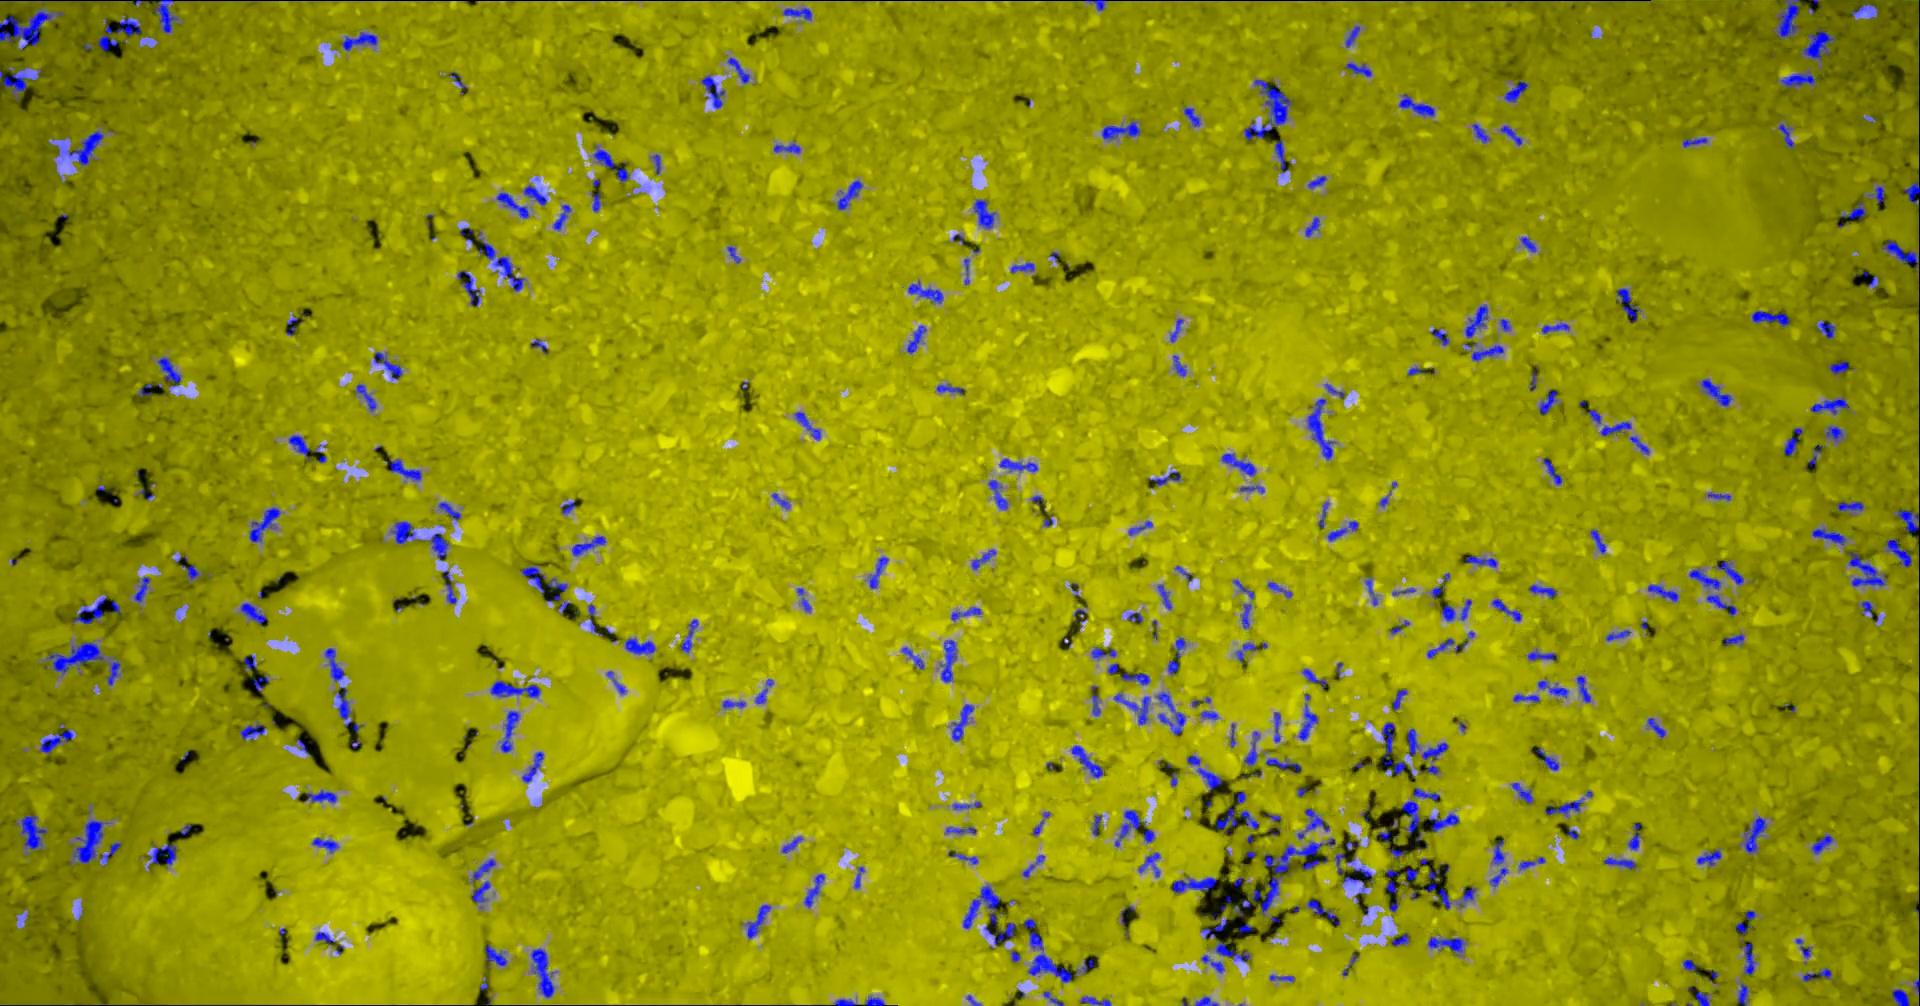ant: (1023, 918, 1070, 982), (1243, 79, 1291, 138), (477, 231, 524, 291), (0, 8, 63, 50), (46, 641, 104, 676), (1305, 398, 1335, 459), (124, 0, 178, 32), (963, 884, 1001, 929), (57, 130, 103, 165), (72, 819, 107, 862), (97, 17, 141, 50), (592, 144, 629, 180), (0, 66, 41, 99), (1848, 551, 1886, 586), (1156, 691, 1185, 735), (530, 948, 555, 998), (1382, 721, 1406, 775), (1187, 754, 1222, 791), (1112, 692, 1149, 724), (1114, 809, 1145, 846), (1423, 869, 1451, 909), (1801, 28, 1835, 61), (248, 507, 279, 542), (1881, 239, 1919, 268), (15, 814, 47, 848), (1342, 868, 1371, 903), (337, 687, 359, 732), (1070, 746, 1102, 777), (39, 723, 72, 753), (1297, 808, 1330, 838), (1775, 0, 1799, 38), (950, 702, 974, 741), (1298, 694, 1317, 741), (907, 279, 943, 304), (1700, 379, 1732, 406), (495, 192, 528, 218), (490, 680, 540, 697), (1305, 898, 1338, 925), (1743, 815, 1766, 854), (72, 597, 105, 622), (745, 904, 771, 937), (1490, 840, 1507, 887), (1617, 287, 1641, 321), (373, 351, 403, 379), (1398, 93, 1434, 116), (500, 710, 519, 752), (700, 75, 724, 108), (385, 459, 422, 480), (457, 271, 480, 305), (836, 180, 862, 210), (938, 639, 956, 682), (1464, 304, 1487, 337), (1171, 876, 1217, 893), (1544, 796, 1583, 815), (794, 412, 820, 439), (1884, 539, 1911, 567), (803, 873, 824, 907), (1688, 567, 1719, 589), (1167, 636, 1186, 674), (521, 751, 543, 782), (1222, 453, 1255, 475), (571, 535, 604, 556), (157, 356, 180, 386), (1491, 598, 1521, 621), (1215, 941, 1250, 962), (342, 30, 377, 50), (1101, 121, 1139, 138), (971, 199, 996, 227), (1716, 560, 1743, 584), (1327, 520, 1357, 541), (1440, 600, 1470, 621), (984, 922, 1015, 944), (1427, 936, 1464, 954), (324, 647, 343, 681), (1530, 747, 1558, 770), (149, 842, 177, 865), (1751, 310, 1789, 326), (1810, 398, 1848, 414), (987, 479, 1007, 509), (1705, 594, 1736, 615), (521, 567, 543, 593), (869, 556, 888, 588), (1811, 527, 1846, 544), (681, 619, 698, 652), (1401, 800, 1418, 833), (175, 555, 199, 579), (1137, 852, 1161, 876), (471, 857, 495, 882), (905, 325, 926, 353), (356, 384, 376, 412), (1537, 680, 1568, 697), (1427, 813, 1459, 831), (1903, 169, 1919, 206), (1783, 427, 1802, 456), (1896, 509, 1919, 533), (483, 942, 505, 967), (728, 57, 749, 83), (240, 602, 265, 624), (1426, 638, 1454, 657), (471, 880, 490, 908), (1274, 140, 1290, 171), (623, 638, 655, 654), (1780, 71, 1815, 86), (1243, 730, 1258, 765), (1214, 807, 1237, 829), (1503, 80, 1528, 102), (390, 521, 414, 542), (1741, 939, 1755, 976), (1430, 572, 1449, 598), (1200, 918, 1227, 937), (441, 570, 456, 603), (1647, 584, 1677, 601), (998, 459, 1037, 471), (1265, 758, 1300, 772), (902, 647, 924, 668), (288, 434, 309, 459), (971, 549, 996, 569), (1302, 668, 1326, 688), (1735, 909, 1755, 934), (545, 594, 570, 614), (430, 533, 448, 560), (1498, 124, 1521, 145), (1510, 782, 1533, 803), (1470, 345, 1503, 359), (606, 669, 625, 694), (754, 678, 773, 702), (1840, 201, 1865, 218), (552, 205, 570, 230), (1539, 389, 1557, 414), (1543, 459, 1561, 484), (1422, 742, 1448, 760), (1148, 471, 1180, 485), (239, 723, 265, 739), (523, 185, 546, 205), (1032, 810, 1050, 835), (1600, 420, 1630, 434), (588, 605, 602, 635), (951, 606, 982, 620), (1777, 123, 1793, 149), (303, 789, 337, 801), (1232, 579, 1253, 598), (1811, 835, 1832, 854), (1802, 967, 1831, 981), (437, 502, 460, 520), (133, 575, 149, 602), (311, 837, 338, 852), (1200, 954, 1223, 972), (1528, 584, 1556, 598), (1576, 674, 1590, 702), (1629, 434, 1650, 453), (1236, 641, 1256, 661), (100, 842, 121, 861), (450, 71, 466, 94), (1697, 848, 1719, 865), (1603, 857, 1636, 869), (1850, 3, 1877, 17), (1345, 62, 1371, 76), (1120, 671, 1149, 683), (947, 851, 977, 864), (1128, 520, 1152, 535), (1590, 528, 1605, 553), (1156, 584, 1171, 608), (796, 587, 811, 611), (1470, 123, 1490, 142), (1239, 810, 1258, 829), (1457, 887, 1476, 906), (1647, 716, 1665, 737), (1390, 688, 1407, 710), (781, 836, 803, 852), (783, 8, 811, 20), (1528, 648, 1556, 661), (1406, 728, 1418, 756), (1627, 823, 1641, 848), (1517, 856, 1545, 869), (1465, 555, 1496, 567), (1364, 578, 1377, 605), (1412, 788, 1439, 800), (1170, 318, 1183, 342), (1267, 582, 1291, 596), (105, 661, 119, 685), (1343, 25, 1359, 47), (1317, 502, 1330, 527), (1385, 868, 1398, 893), (1430, 328, 1448, 345), (1183, 107, 1200, 126), (1816, 321, 1835, 338), (1399, 868, 1418, 884), (1304, 216, 1319, 236), (1796, 937, 1811, 958), (1079, 995, 1110, 1005), (1172, 354, 1186, 376), (771, 492, 789, 508), (1891, 988, 1909, 1005), (1823, 426, 1843, 441), (1605, 629, 1630, 640), (1721, 633, 1743, 645), (1542, 323, 1570, 333), (314, 931, 334, 945), (1043, 991, 1063, 1005), (1091, 647, 1115, 658), (284, 314, 297, 335), (1808, 445, 1821, 466), (251, 674, 268, 691), (1869, 185, 1884, 203), (936, 384, 963, 394), (1836, 500, 1863, 511), (1076, 958, 1093, 973), (1829, 359, 1848, 373), (1324, 384, 1343, 398), (547, 578, 568, 591), (1519, 236, 1535, 251), (1737, 983, 1749, 1005), (1683, 137, 1707, 147), (1010, 262, 1034, 272), (1241, 603, 1251, 627), (1307, 175, 1326, 188), (945, 826, 977, 833), (1390, 934, 1410, 946), (1512, 694, 1539, 702), (1683, 959, 1699, 973), (773, 144, 799, 152), (1192, 996, 1218, 1005), (1272, 711, 1280, 741), (952, 801, 982, 809), (1084, 0, 1106, 10), (853, 866, 863, 888), (721, 699, 745, 708), (458, 227, 472, 243), (243, 654, 257, 669), (1694, 991, 1709, 1005), (728, 246, 740, 263), (863, 995, 884, 1005), (1707, 492, 1730, 500), (1091, 815, 1101, 835), (651, 152, 660, 174), (1091, 694, 1100, 715), (1862, 600, 1873, 616), (1239, 485, 1263, 493), (590, 191, 599, 211), (1335, 852, 1343, 873), (137, 384, 151, 396), (1587, 409, 1600, 423), (561, 500, 575, 513), (1142, 828, 1154, 842), (1387, 848, 1406, 857), (1407, 366, 1425, 375), (1126, 612, 1142, 622), (1269, 974, 1293, 981), (1200, 710, 1217, 719), (834, 998, 857, 1005), (41, 0, 110, 1)
